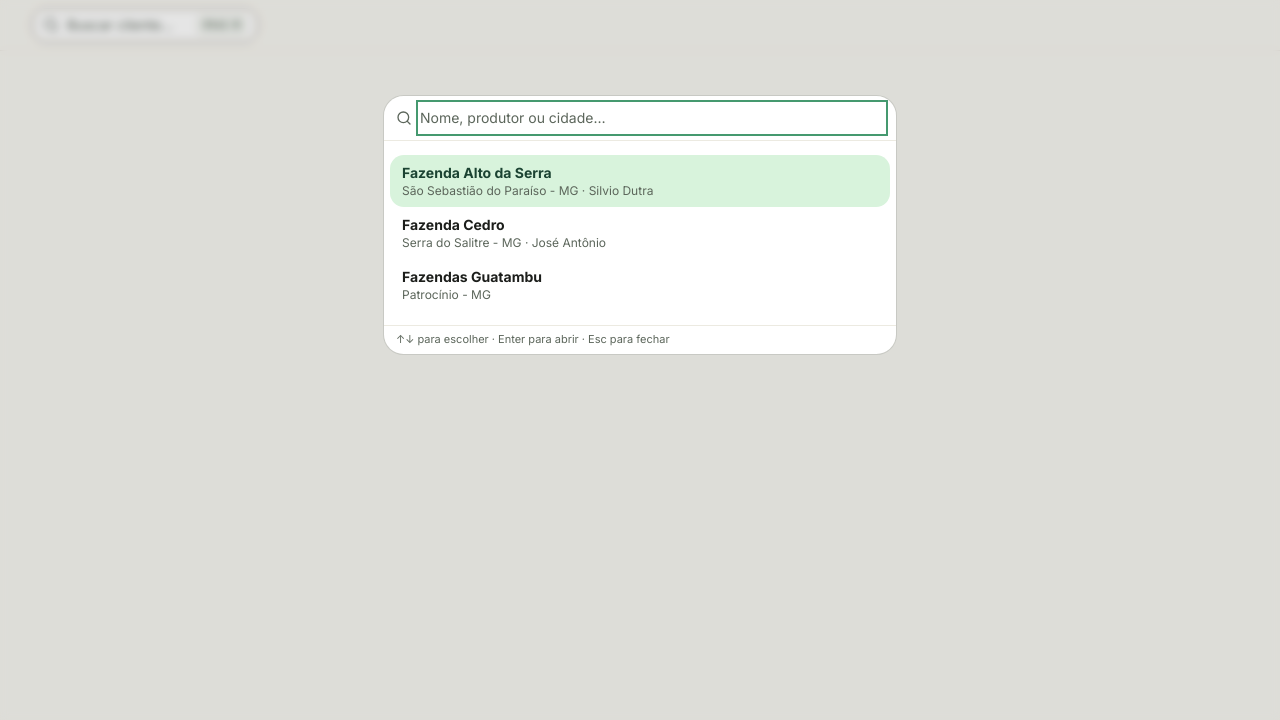
Test: BuscaClientes › avisa quando a busca não acha ninguém
The width and height of the screenshot is (1280, 720).
Type "zzz" into the dropdown named "Buscar cliente por nome, produtor ou cidade" at (652, 118), box top-left (420, 104), bottom-right (884, 132)
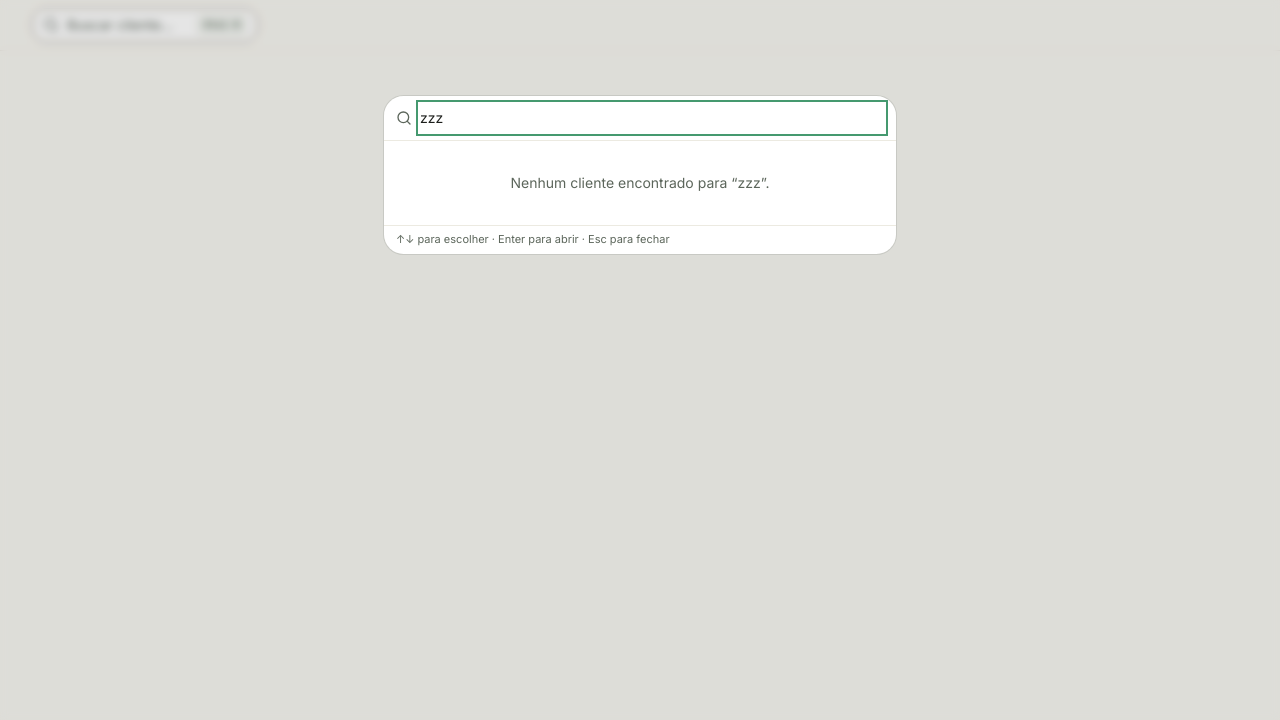
Expected: the text "Nenhum cliente encontrado para “zzz”." is shown, top-left (510, 174), bottom-right (770, 191)
